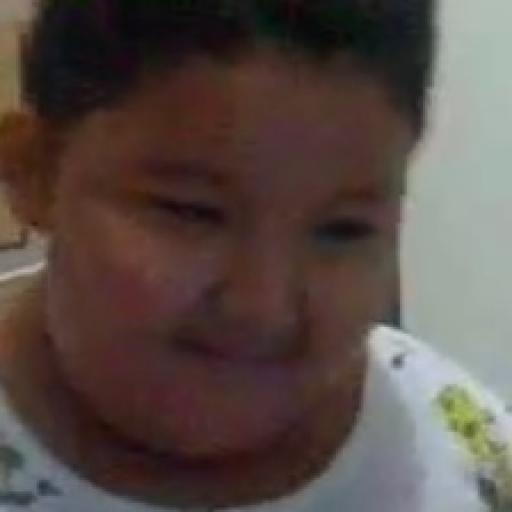Autism: (5, 0, 434, 487)
